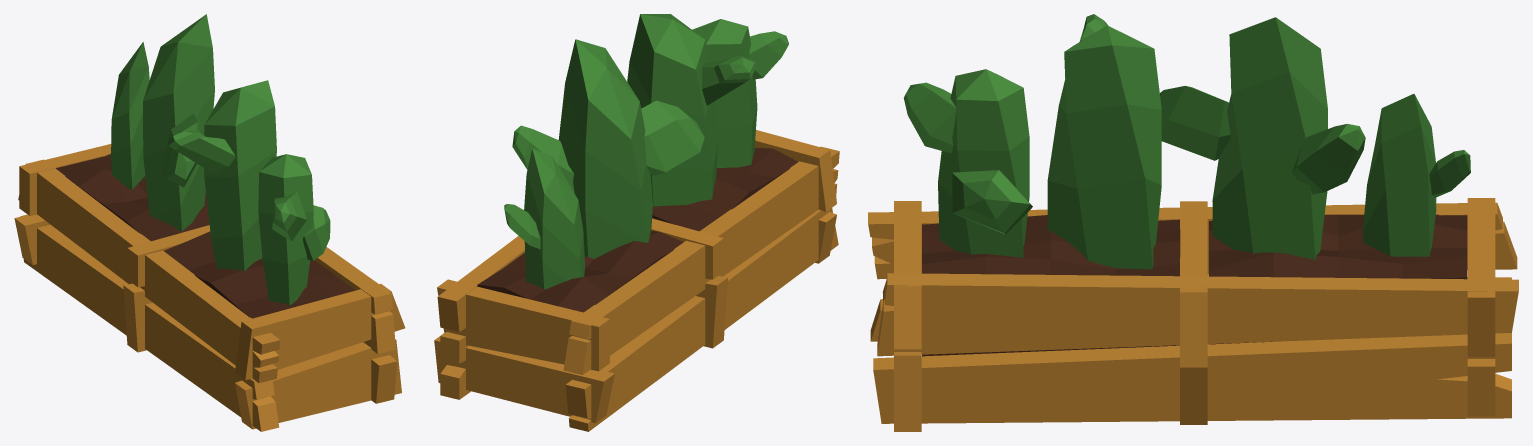
Rendered from kaktus.fbx.
3 renders of one model, left to right at view 1: azimuth 30°, elevation 25°; view 2: azimuth 150°, elevation 25°; view 3: azimuth 270°, elevation 25°, orthographic. The views are drawn at different scales.
Parts seen in each view (by area): view 1: Sphere, Cube, Cube.001, Cube.002, Sphere.001; view 2: Sphere, Cube, Cube.001, Cube.002, Sphere.001; view 3: Cube, Sphere, Cube.001, Cube.002, Sphere.001.
Boxes of the visible parts, bbox=[...] form: Sphere: bbox=[111, 14, 313, 305]; Cube: bbox=[18, 159, 397, 431]; Cube.001: bbox=[14, 144, 405, 429]; Cube.002: bbox=[56, 153, 355, 318]; Sphere.001: bbox=[161, 114, 330, 260]; Sphere: bbox=[524, 14, 757, 289]; Cube: bbox=[437, 146, 839, 431]; Cube.001: bbox=[434, 130, 836, 423]; Cube.002: bbox=[477, 147, 798, 312]; Sphere.001: bbox=[504, 31, 788, 249]; Cube: bbox=[868, 202, 1518, 423]; Sphere: bbox=[938, 17, 1436, 269]; Cube.001: bbox=[894, 198, 1495, 431]; Cube.002: bbox=[922, 214, 1467, 356]; Sphere.001: bbox=[904, 14, 1470, 234].
Bounding box in the file's own units: 241 × 398 × 616.
